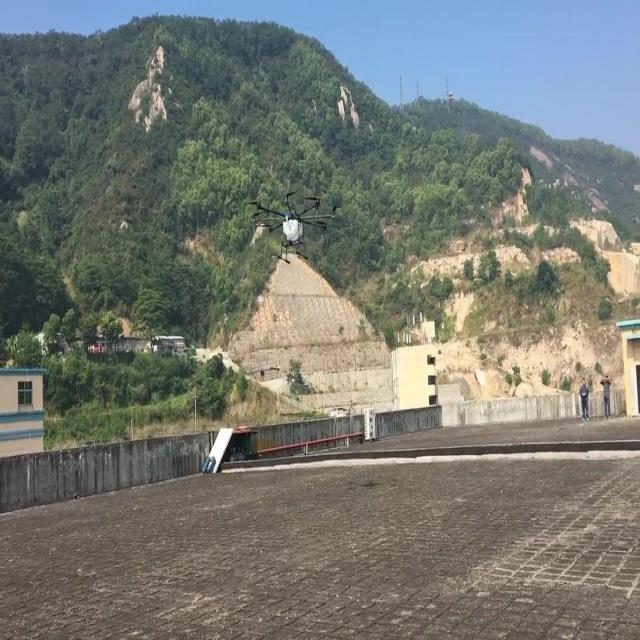UAV: (246, 189, 336, 265)
